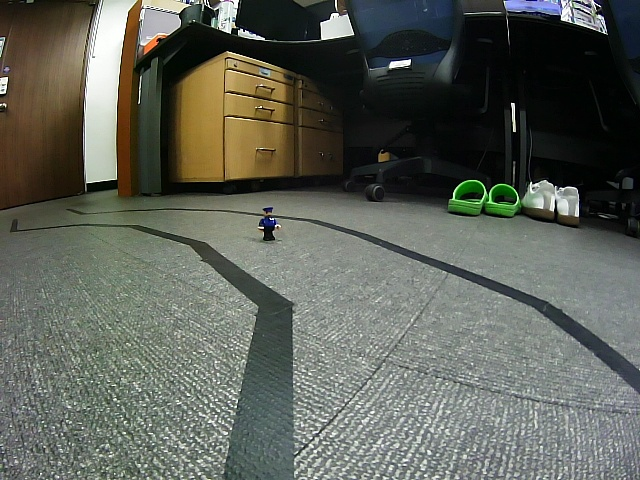person: (258, 207, 282, 242)
